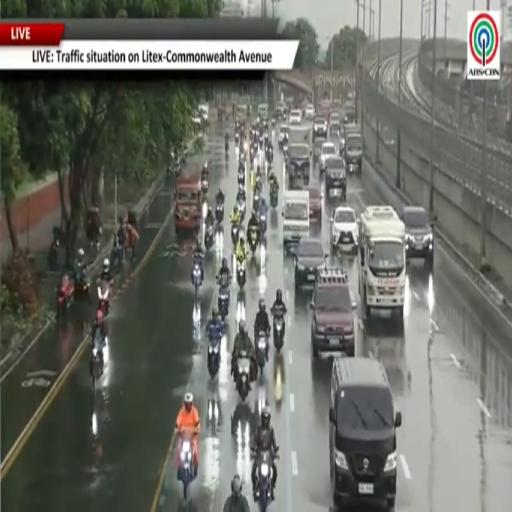car: (329, 358, 401, 510), (310, 268, 356, 358), (402, 206, 434, 265), (294, 237, 326, 290), (331, 205, 359, 250), (288, 143, 311, 187), (324, 156, 346, 202), (345, 133, 362, 173), (319, 141, 336, 172), (308, 187, 322, 221), (313, 138, 326, 164), (313, 116, 327, 140), (330, 111, 341, 136), (278, 124, 289, 149), (289, 109, 302, 124), (304, 104, 315, 120), (276, 102, 287, 118)
motorcycle: (256, 452, 278, 511), (178, 434, 196, 501), (90, 330, 104, 390), (57, 276, 74, 316), (237, 351, 250, 401), (207, 336, 221, 378), (256, 330, 268, 374), (273, 313, 285, 354), (74, 268, 90, 298), (110, 234, 124, 267), (98, 280, 110, 315), (218, 282, 229, 319), (48, 236, 59, 270), (193, 263, 202, 296), (204, 224, 214, 250), (249, 229, 258, 257), (237, 261, 245, 289), (259, 208, 267, 235), (270, 185, 278, 209), (231, 224, 239, 245), (253, 189, 260, 212), (216, 202, 224, 222), (238, 198, 245, 219), (238, 168, 245, 186), (201, 178, 208, 196), (267, 147, 273, 164), (283, 140, 288, 157), (225, 140, 229, 154), (259, 136, 263, 150), (235, 133, 239, 145)
truck: (358, 205, 406, 318), (174, 170, 202, 234), (282, 190, 309, 252), (286, 126, 312, 188)
